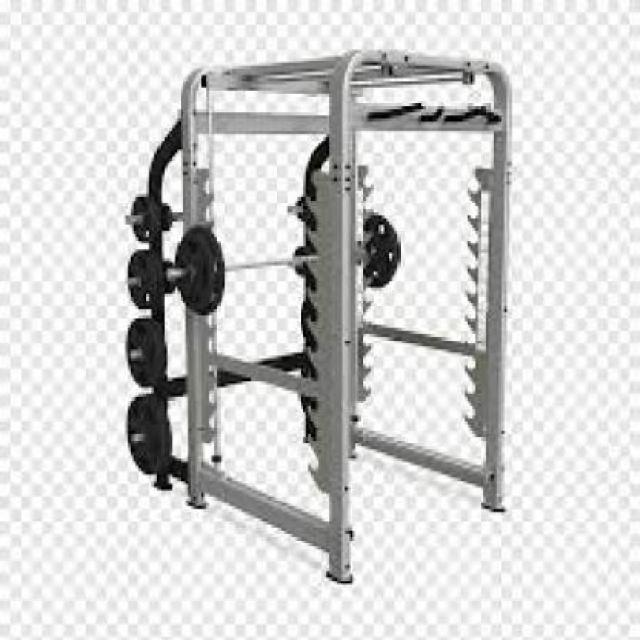smith machine: (127, 46, 516, 586)
